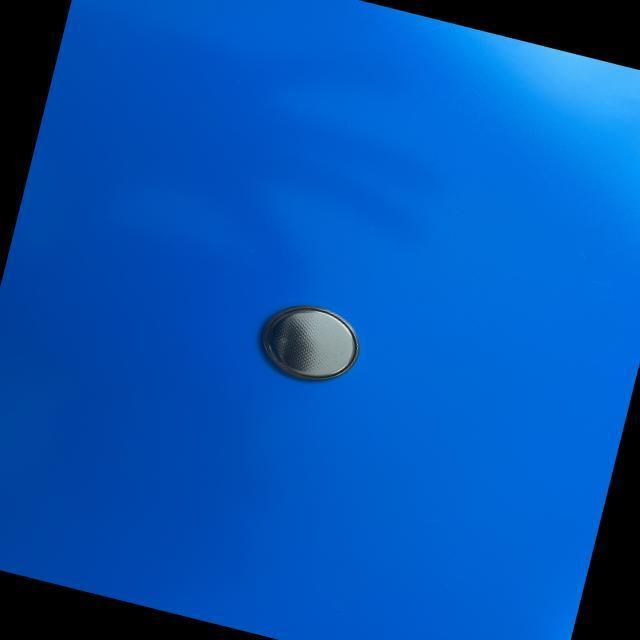COIN: (248, 291, 370, 393)
